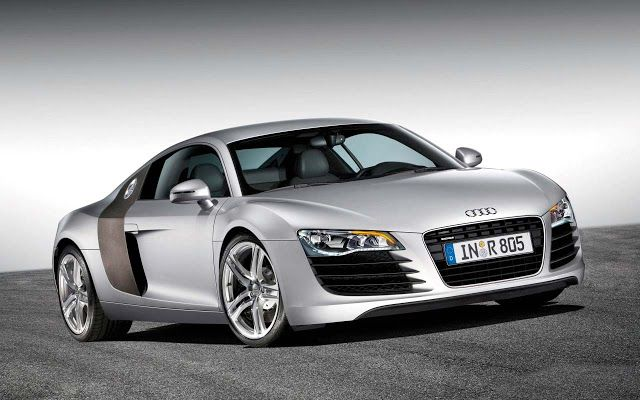car: (51, 114, 589, 343)
